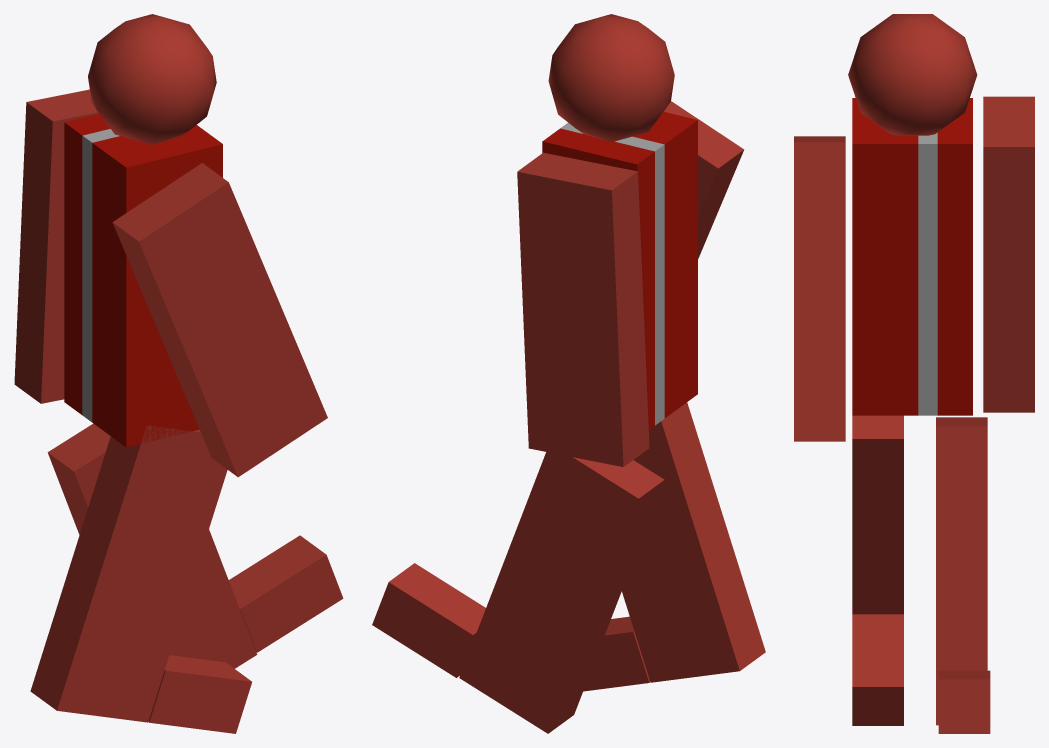
File: player_000051.obj
3 views of the same model, side by side, from view 1: azimuth 30°, elevation 25°; view 2: azimuth 150°, elevation 25°; view 3: azimuth 270°, elevation 25° (orthographic). The views are drawn at different scales.
Visible parts, largest first — view 1: Cube.010, Cube.013, Cube.007, Cube.012, Icosphere.001, Cube.008, Cube.009, Cube.011; view 2: Cube.012, Cube.008, Cube.010, Cube.007, Icosphere.001, Cube.009, Cube.013, Cube.011; view 3: Cube.007, Cube.012, Cube.013, Cube.008, Icosphere.001, Cube.010, Cube.011, Cube.009.
Boxes of the visible parts, left/top/right/bottom form: Cube.010: left=30, top=425, right=227, bottom=722; Cube.013: left=112, top=163, right=327, bottom=477; Cube.007: left=64, top=114, right=222, bottom=447; Cube.012: left=14, top=89, right=98, bottom=403; Icosphere.001: left=88, top=14, right=216, bottom=144; Cube.008: left=47, top=423, right=257, bottom=668; Cube.009: left=228, top=535, right=343, bottom=652; Cube.011: left=148, top=655, right=251, bottom=733; Cube.012: left=517, top=152, right=649, bottom=466; Cube.008: left=459, top=452, right=664, bottom=733; Cube.010: left=622, top=402, right=765, bottom=682; Cube.007: left=542, top=112, right=697, bottom=429; Icosphere.001: left=548, top=14, right=674, bottom=142; Cube.009: left=372, top=563, right=485, bottom=677; Cube.013: left=664, top=101, right=744, bottom=258; Cube.011: left=583, top=616, right=650, bottom=691; Cube.007: left=852, top=98, right=972, bottom=415; Cube.012: left=983, top=96, right=1034, bottom=412; Cube.013: left=794, top=136, right=845, bottom=441; Cube.008: left=936, top=417, right=987, bottom=725; Icosphere.001: left=848, top=14, right=977, bottom=135; Cube.010: left=852, top=415, right=903, bottom=614; Cube.011: left=852, top=614, right=903, bottom=725; Cube.009: left=938, top=670, right=990, bottom=733.
Size of the model in its own units: 1.41 by 2.88 by 0.9137.
